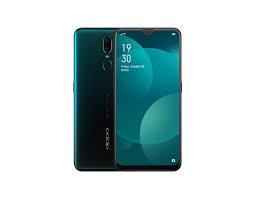oppo: (72, 24, 183, 174)
